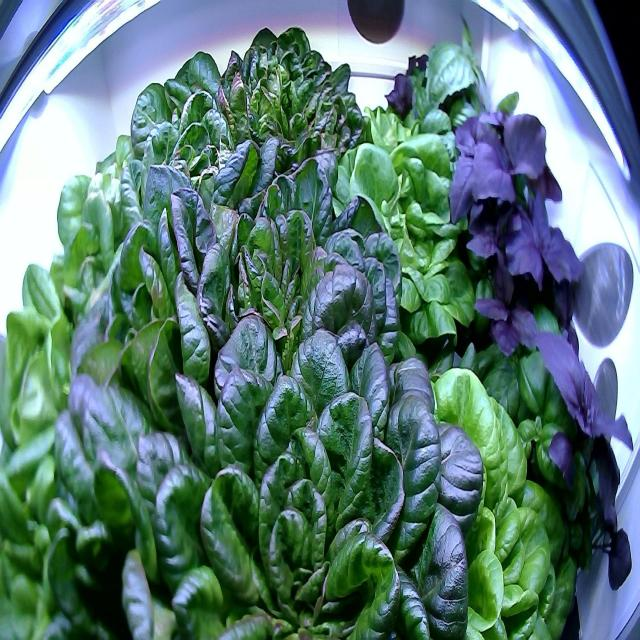Ready: (118, 294, 490, 640), (380, 368, 576, 639), (66, 119, 264, 385), (32, 353, 202, 640), (222, 144, 412, 391), (0, 263, 110, 640), (338, 132, 489, 352), (215, 14, 375, 209), (2, 172, 148, 369), (118, 38, 264, 223)
young: (352, 97, 448, 162)
